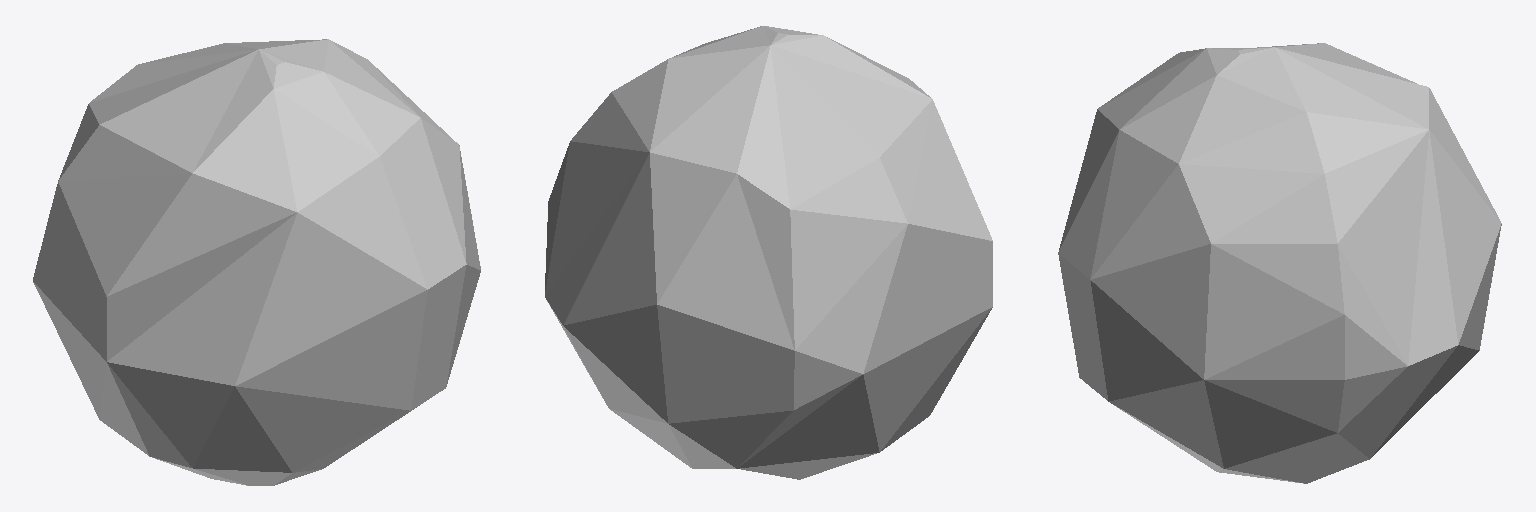
File: meteor.obj
The picture shows the model from 3 angles: view 1: azimuth 30°, elevation 25°; view 2: azimuth 150°, elevation 25°; view 3: azimuth 270°, elevation 25°; orthographic projection.
Visible parts, largest first — view 1: pSphere1; view 2: pSphere1; view 3: pSphere1.
Boxes of the visible parts, box(x1,y1,x2,y2) form: pSphere1: box(33, 39, 480, 485); pSphere1: box(545, 26, 992, 479); pSphere1: box(1058, 43, 1501, 483).
Size of the model in its own units: 3.76 by 4 by 3.85.